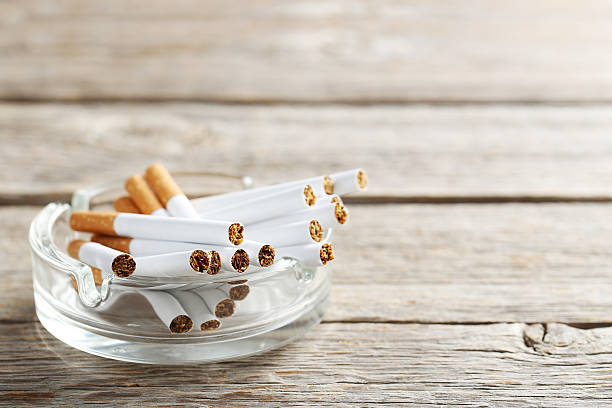cigarette: (86, 233, 251, 275), (67, 209, 247, 246), (189, 176, 335, 212), (210, 182, 317, 226), (93, 249, 210, 284), (143, 161, 200, 218), (66, 238, 137, 279), (145, 295, 194, 335), (122, 173, 168, 215), (175, 294, 222, 333), (251, 219, 323, 244), (274, 244, 335, 268), (240, 238, 277, 270), (333, 167, 370, 195), (313, 202, 351, 228), (201, 291, 237, 318), (219, 250, 249, 274), (112, 195, 139, 214), (221, 285, 251, 302), (205, 249, 222, 274), (316, 194, 345, 207)
